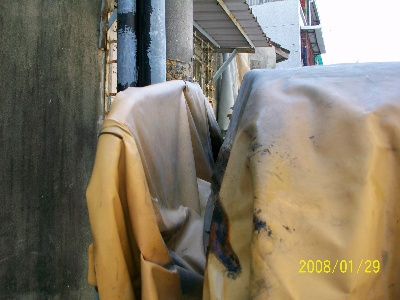plastic_bag: (234, 64, 400, 299), (88, 77, 236, 300)
